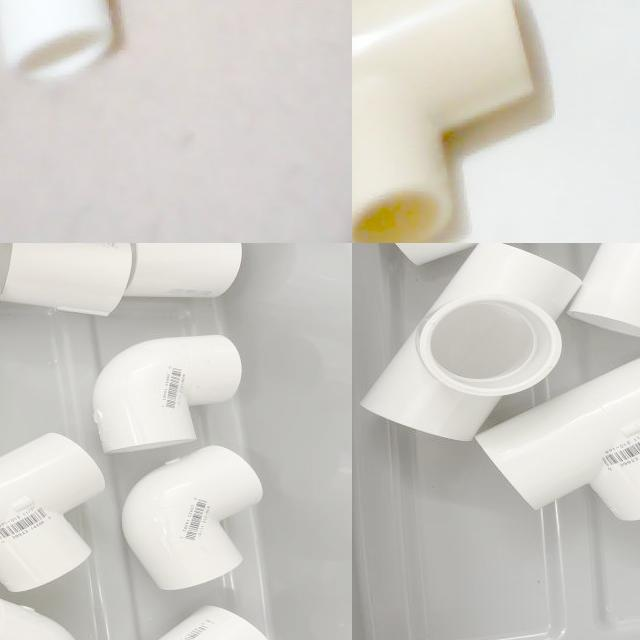L Joint: (123, 446, 265, 594), (91, 335, 244, 456)
T Joint: (362, 245, 579, 443), (473, 357, 640, 523), (0, 431, 106, 593)
